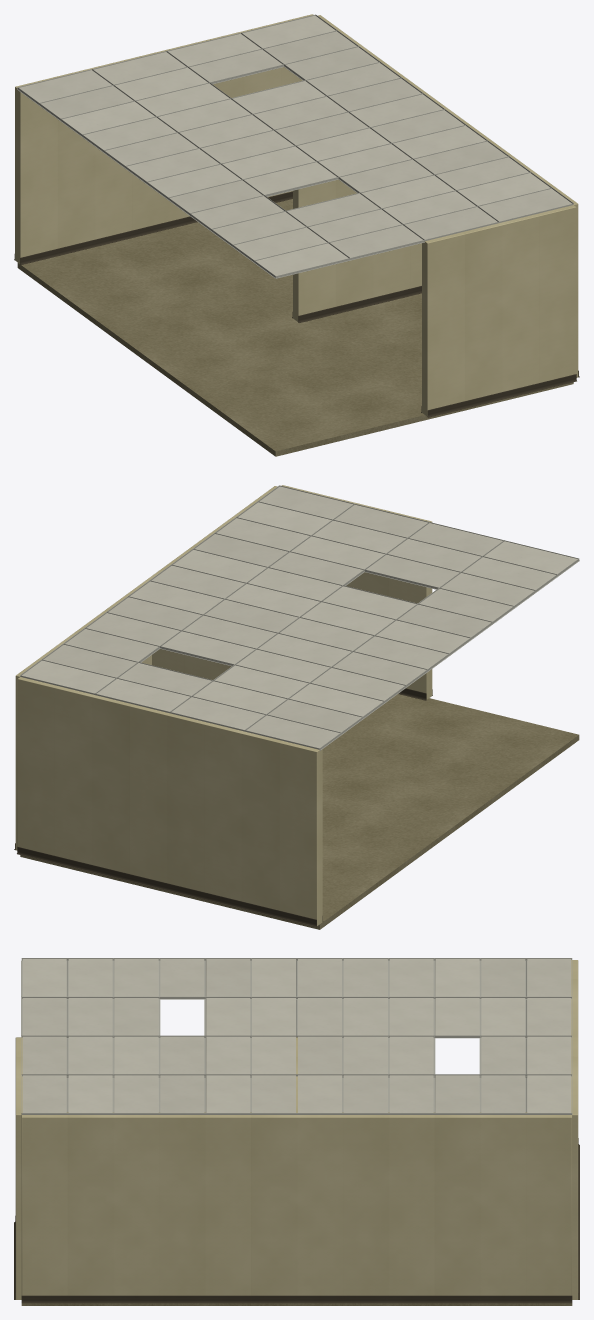
Rendered from short_office_switch.gltf.
3 views of the same model, one above another, from view 1: azimuth 30°, elevation 25°; view 2: azimuth 150°, elevation 25°; view 3: azimuth 270°, elevation 25° (orthographic). The views are drawn at different scales.
Visible parts, largest first — view 1: short_office_switch; view 2: short_office_switch; view 3: short_office_switch.
Part boxes in pixels (x1=…): short_office_switch: x1=14, y1=14, x2=579, y2=456; short_office_switch: x1=14, y1=485, x2=579, y2=929; short_office_switch: x1=14, y1=958, x2=579, y2=1305.
Size of the model in its own units: 5 by 2.83 by 7.53.
5 materials, 5 textured.
